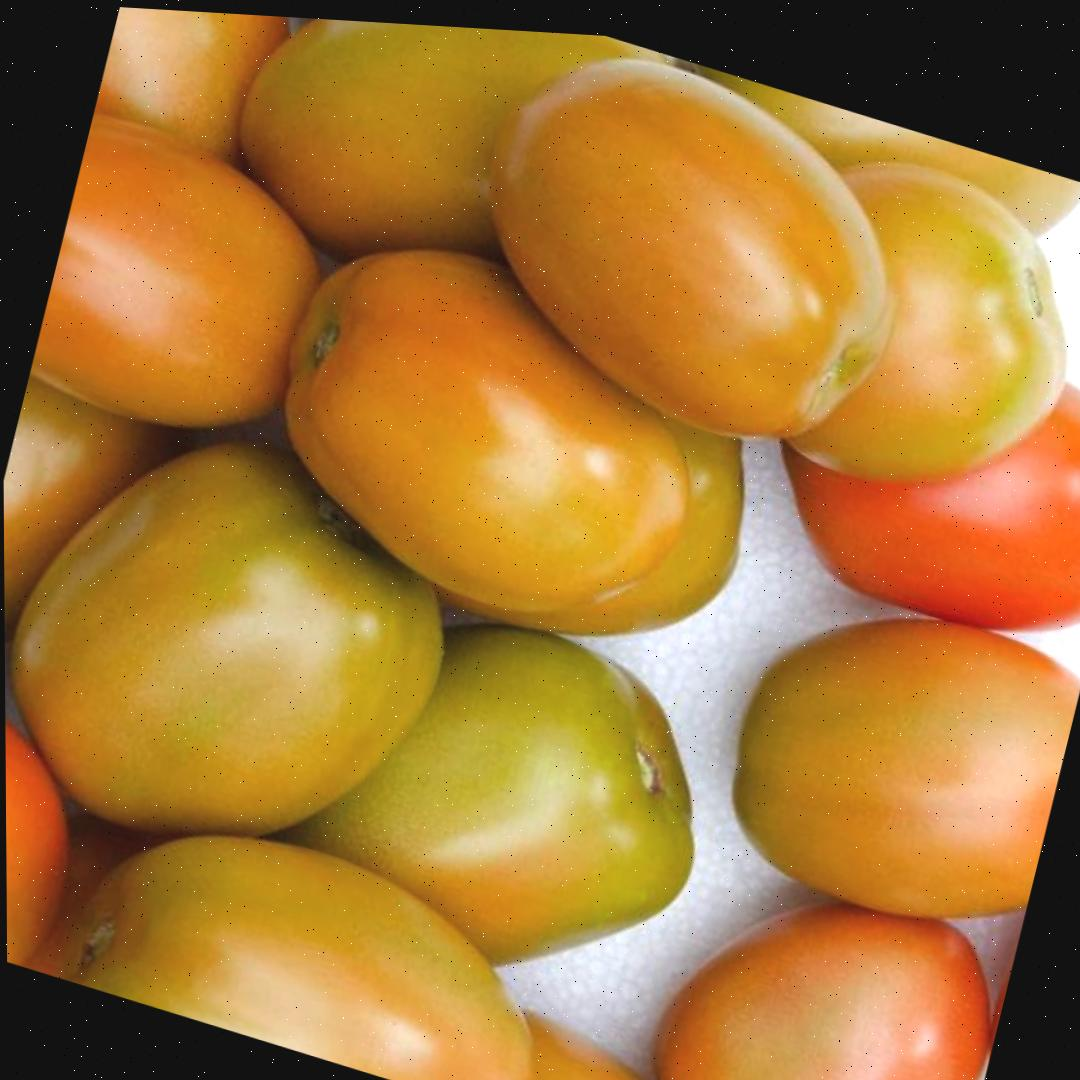setengah_matang: (3, 373, 486, 914), (244, 556, 743, 1043), (240, 197, 740, 664), (439, 26, 941, 484), (706, 115, 1080, 536), (54, 780, 577, 1080), (702, 556, 1080, 961), (22, 101, 357, 474), (623, 835, 1018, 1080)
